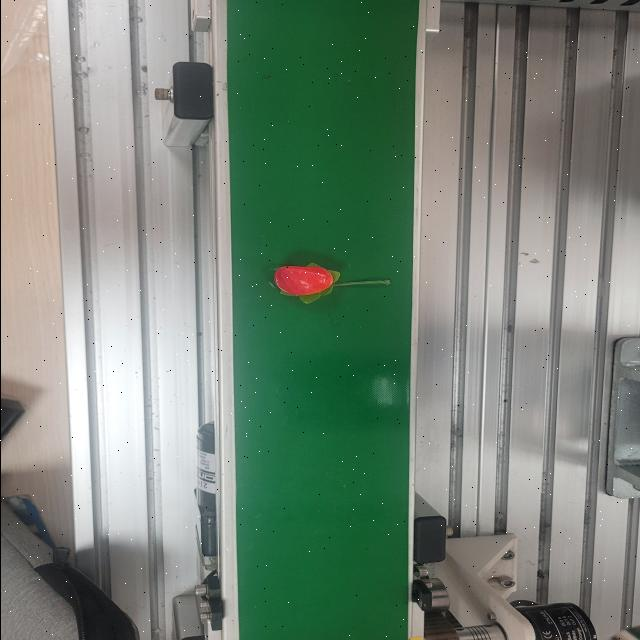Small Ripe Strawberry: (268, 261, 341, 307)
